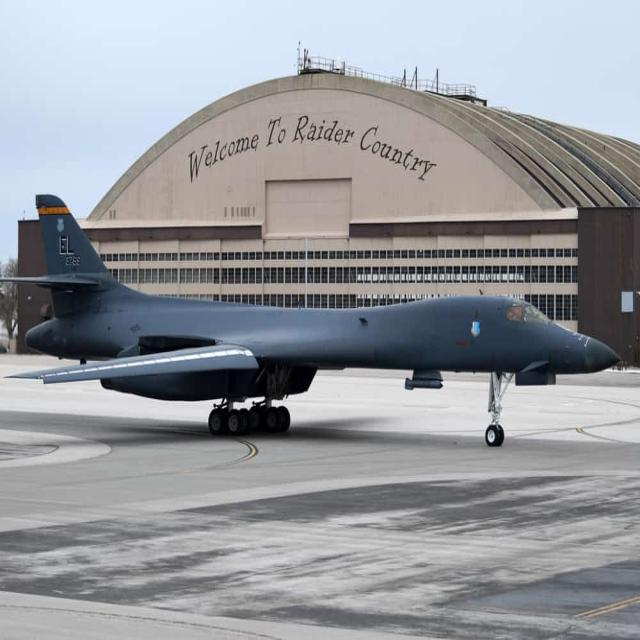MIL_Plane: (1, 194, 623, 447)
